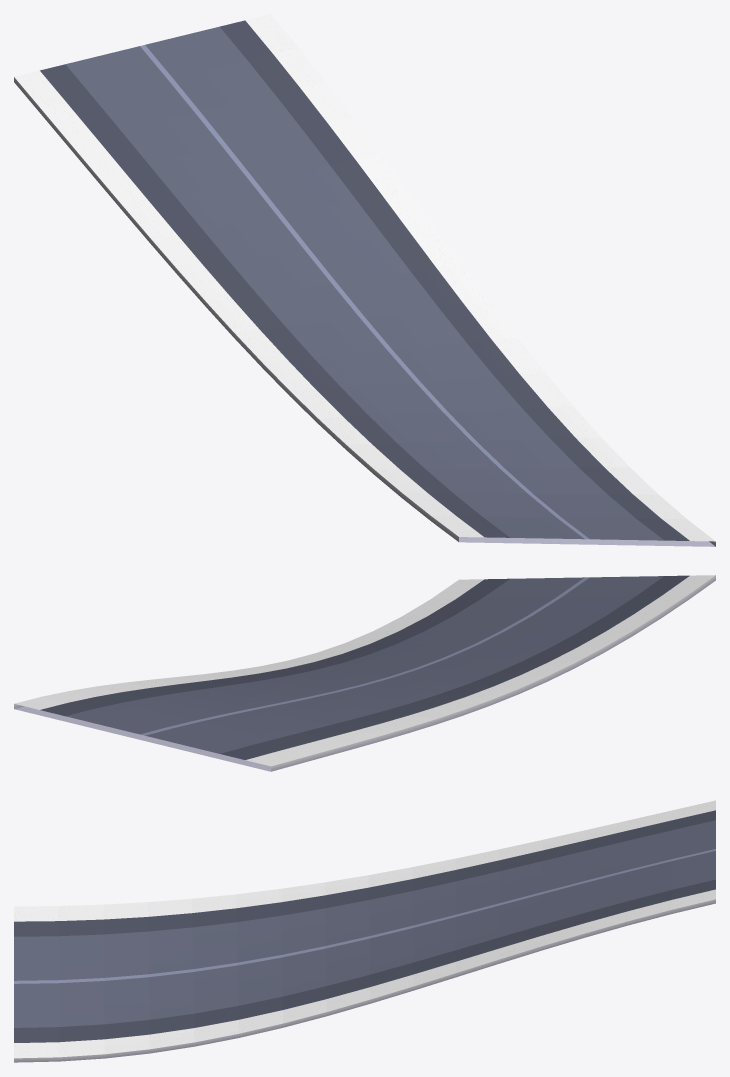
Rendered from road-Straight-HalfBankedRight-BiSlopeUp-Up3-Center-Size3.glb.
The picture shows the model from 3 angles, top to bottom: view 1: azimuth 30°, elevation 25°; view 2: azimuth 150°, elevation 25°; view 3: azimuth 270°, elevation 25°; orthographic projection. The views are drawn at different scales.
Parts seen in each view (by area): view 1: road-Straight-HalfBankedRight-BiSlopeUp-Up3-Center-Size3; view 2: road-Straight-HalfBankedRight-BiSlopeUp-Up3-Center-Size3; view 3: road-Straight-HalfBankedRight-BiSlopeUp-Up3-Center-Size3.
Part boxes in pixels (box(x1,y1,x2,y2)): road-Straight-HalfBankedRight-BiSlopeUp-Up3-Center-Size3: box(14, 14, 715, 546); road-Straight-HalfBankedRight-BiSlopeUp-Up3-Center-Size3: box(14, 575, 715, 771); road-Straight-HalfBankedRight-BiSlopeUp-Up3-Center-Size3: box(14, 800, 715, 1062).
Size of the model in its own units: 1 by 0.77 by 3.
1 material, 1 textured.
